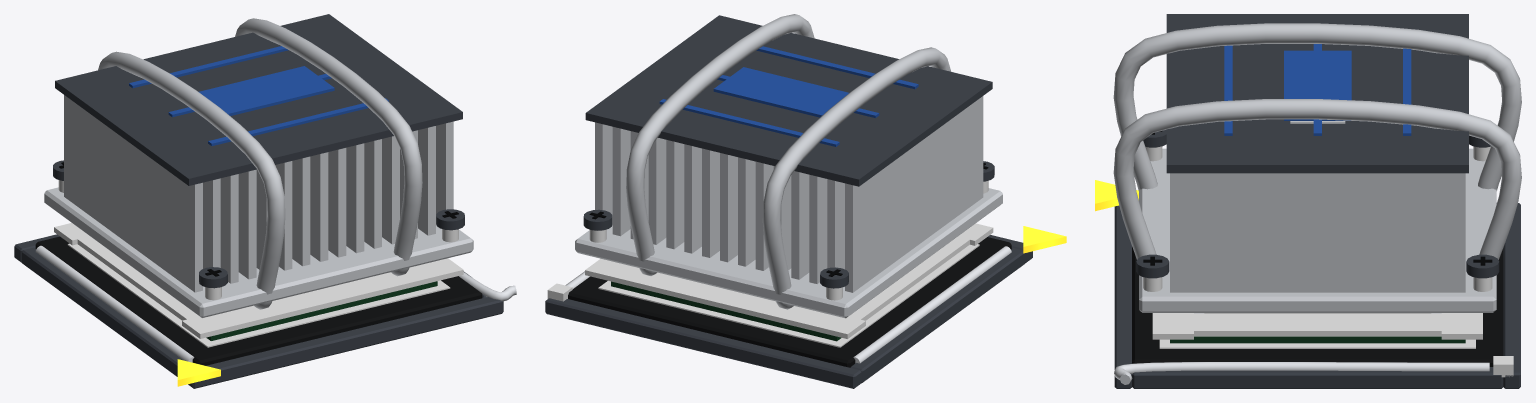
The model's file is hwm_cpu_xeon_e2388g.glb.
3 renders of one model, left to right at view 1: azimuth 30°, elevation 25°; view 2: azimuth 150°, elevation 25°; view 3: azimuth 270°, elevation 25°, orthographic. The views are drawn at different scales.
Parts seen in each view (by area): view 1: Cooler, Socket, Frame, CPU, Screw_1, Screw_3, Lever; view 2: Cooler, Socket, Frame, CPU, Screw_2, Screw_0; view 3: Cooler, Socket, Frame, Lever, CPU, Screw_2, Screw_3, Screw_1, Screw_0.
Boxes of the visible parts, x1,y1,x2,y2 form: Cooler: (44,14,473,317); Socket: (14,234,503,388); Frame: (54,223,463,338); CPU: (206,281,437,340); Screw_1: (199,267,227,300); Screw_3: (436,209,464,242); Lever: (459,272,516,301); Cooler: (575,14,1002,318); Socket: (545,226,1066,388); Frame: (585,223,993,338); CPU: (611,281,841,341); Screw_2: (583,209,612,242); Screw_0: (820,267,848,300); Cooler: (1113,14,1521,312); Socket: (1095,180,1520,388); Frame: (1152,313,1482,339); Lever: (1114,362,1489,384); CPU: (1170,313,1465,343); Screw_2: (1466,254,1499,291); Screw_3: (1136,254,1169,291); Screw_1: (1143,129,1166,161); Screw_0: (1469,135,1490,161).
Bounding box in the file's own units: 0.1338 × 0.0775 × 0.1241.
